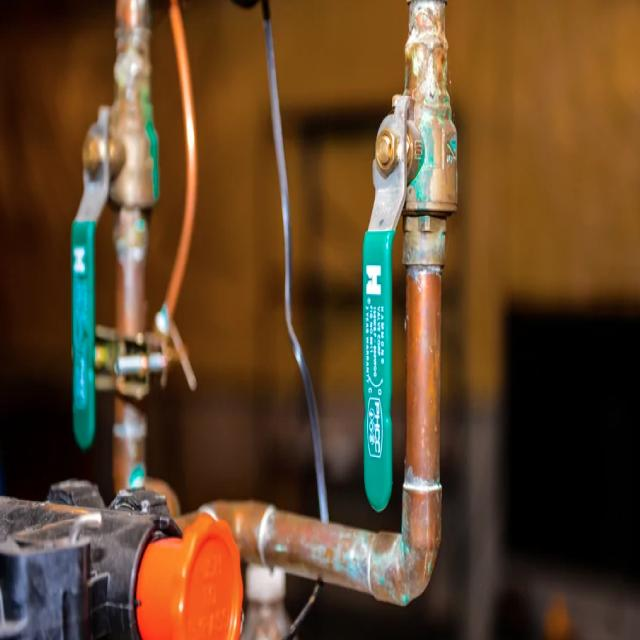Lever Handle Valve Threaded: (360, 4, 459, 511), (70, 27, 166, 447)
